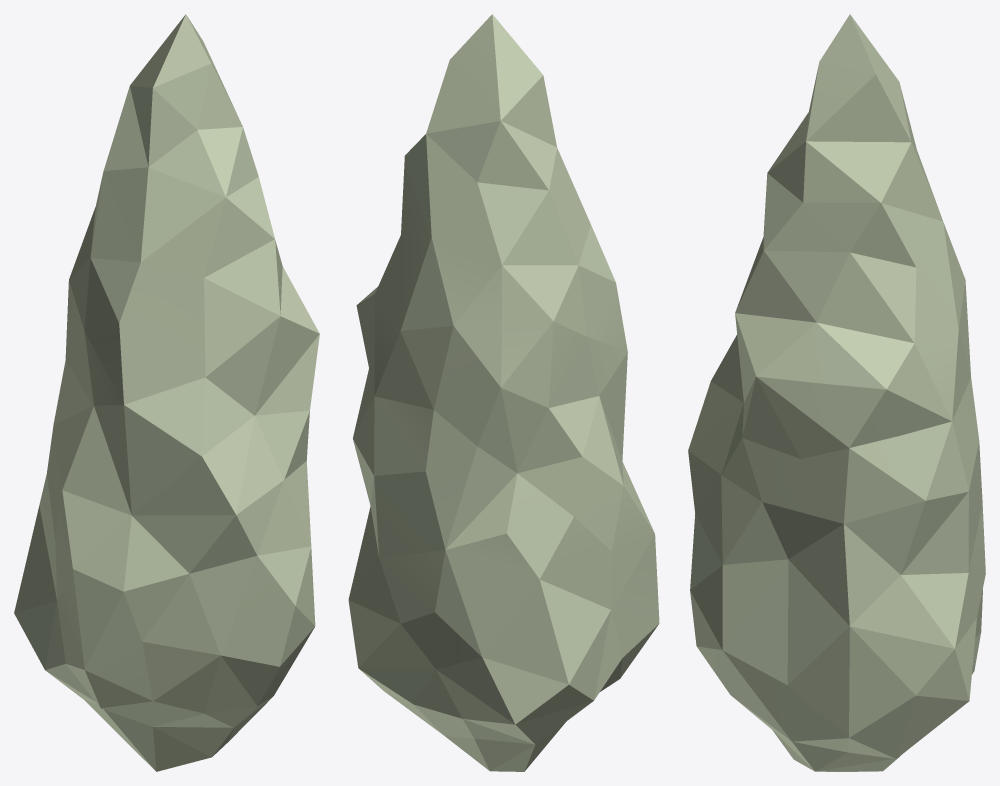
Rendered from LightWoodDecorationSmallSlimTree1.fbx.
3 renders of one model, left to right at view 1: azimuth 30°, elevation 25°; view 2: azimuth 150°, elevation 25°; view 3: azimuth 270°, elevation 25°, orthographic. The views are drawn at different scales.
Parts seen in each view (by area): view 1: LightWoodDecorationSmallSlimTree1; view 2: LightWoodDecorationSmallSlimTree1; view 3: LightWoodDecorationSmallSlimTree1.
Boxes of the visible parts, <box> form: LightWoodDecorationSmallSlimTree1: <box>14,14,319,771</box>; LightWoodDecorationSmallSlimTree1: <box>348,14,659,771</box>; LightWoodDecorationSmallSlimTree1: <box>688,14,985,771</box>.
Size of the model in its own units: 163 by 448 by 156.
